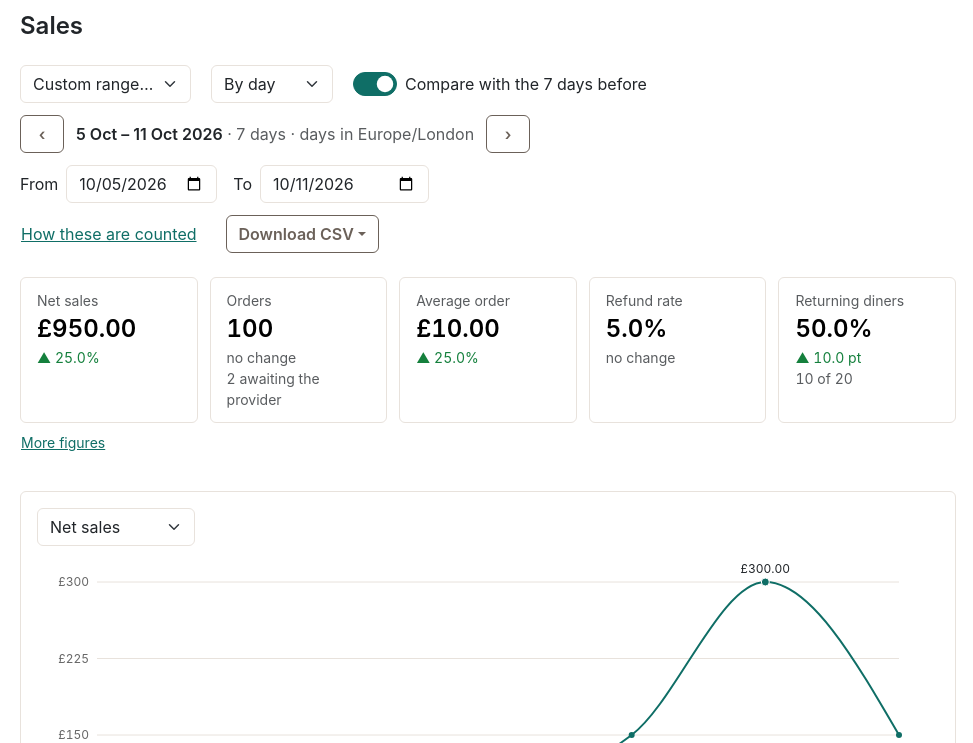
Test case: the sections of the sales page › opens four more figures behind More figures
The width and height of the screenshot is (973, 743).
Click the button "More figures": [67, 443] box x1=20 y1=427 x2=114 y2=459
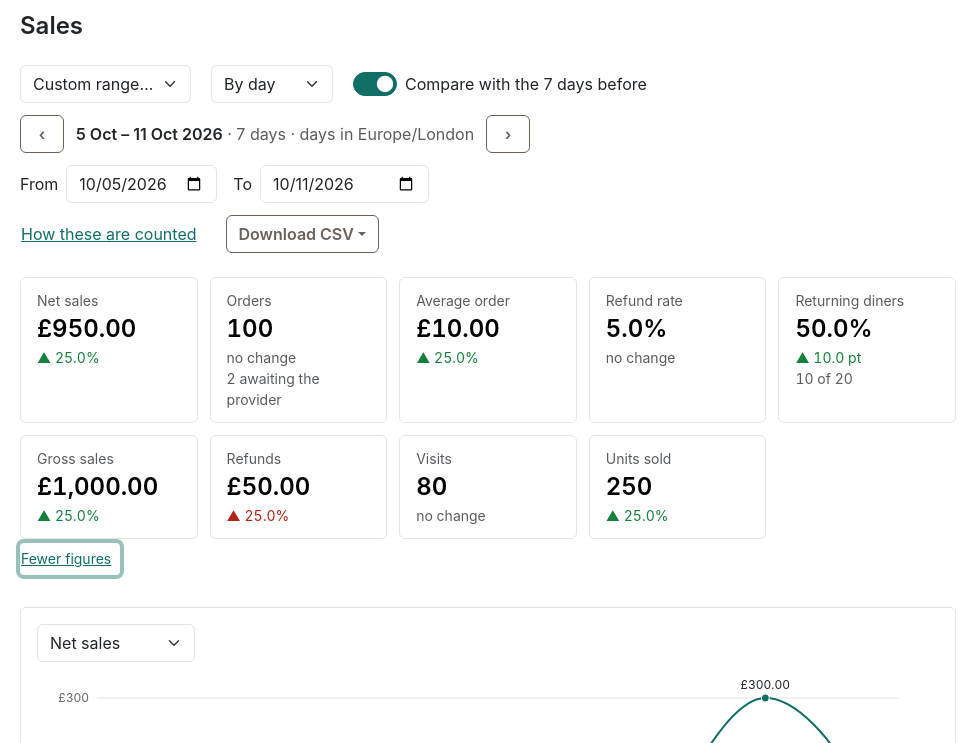
Expected: the button "Fewer figures" is expanded, x1=20 y1=543 x2=120 y2=575
